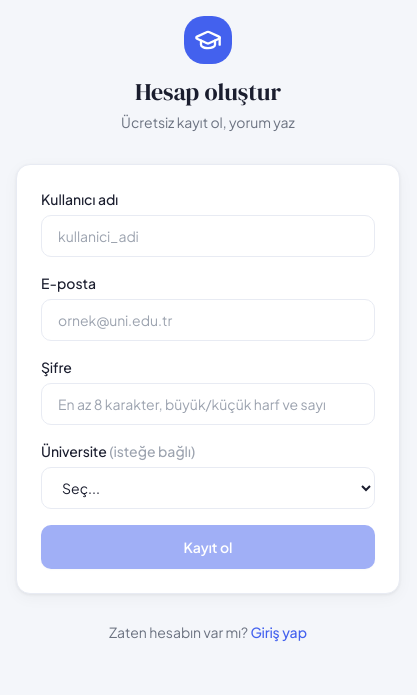
it: RegisterPage › shows .edu.tr warning for non-university email
Type "user@gmail.com" into the field with placeholder "ornek@uni.edu.tr" at (208,320), box [41,299,375,341]
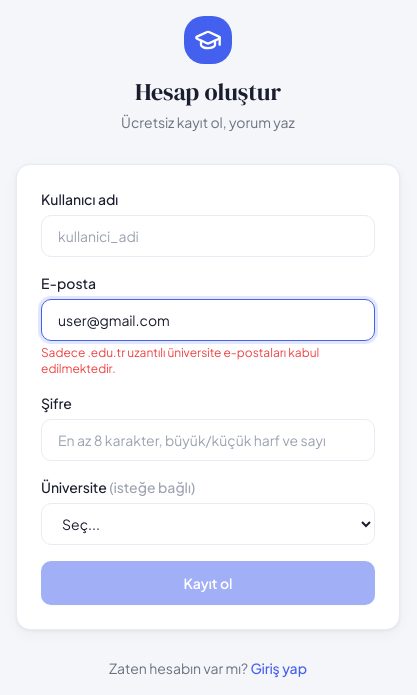
Expected: the text "Sadece .edu.tr uzantılı üniversite e-postaları kabul edilmektedir." is shown, [41,345,319,376]
